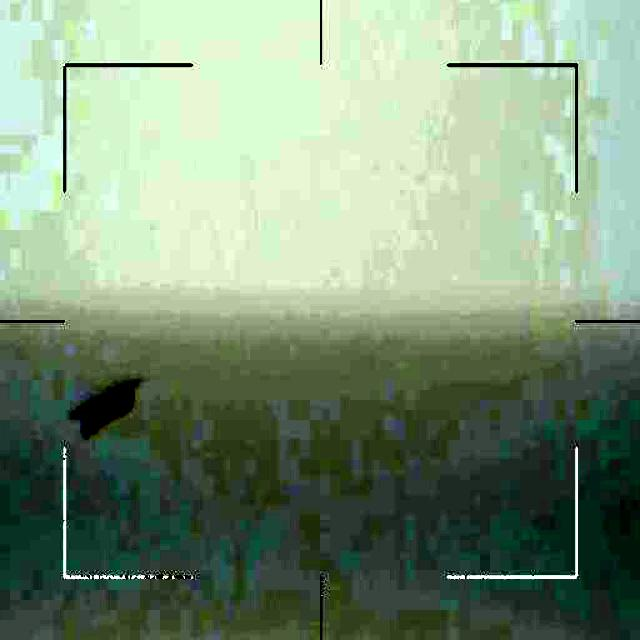bird: (72, 381, 134, 434)
